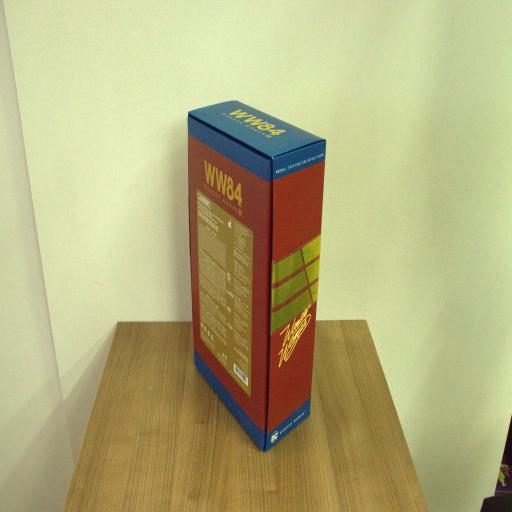WonderWoman: (187, 99, 326, 453)
